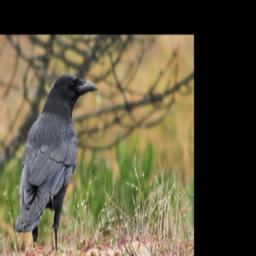Crow: (13, 73, 98, 255)
